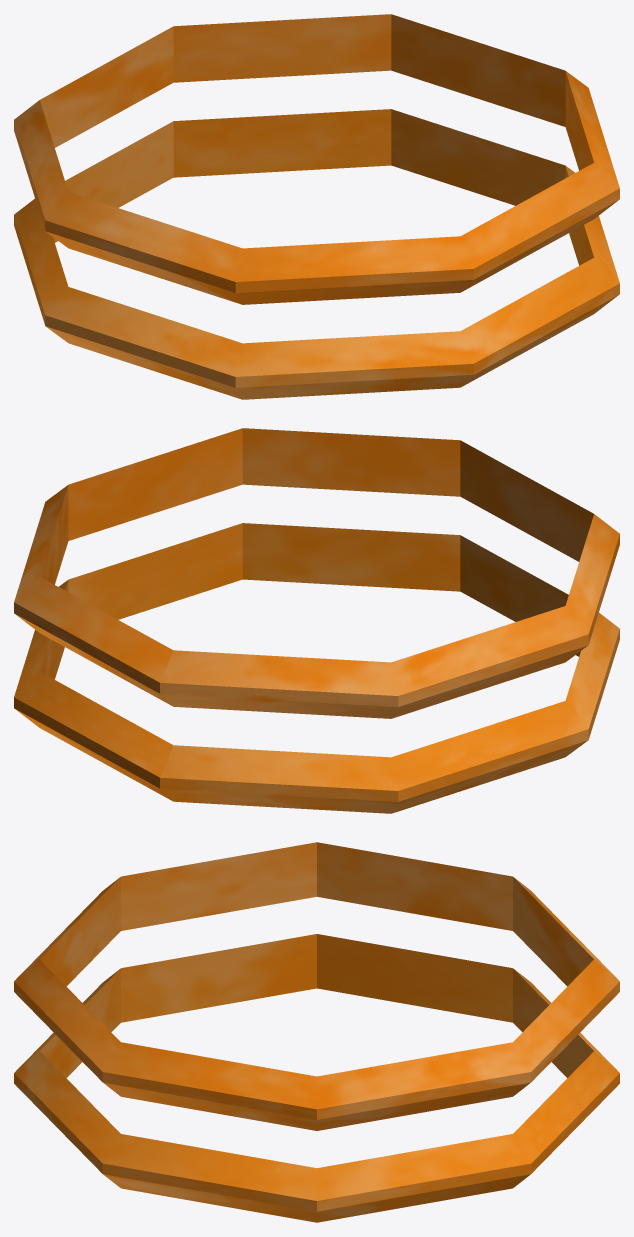
File: Hull_Armour_03.fbx
3 views of the same model, one above another, from view 1: azimuth 30°, elevation 25°; view 2: azimuth 150°, elevation 25°; view 3: azimuth 270°, elevation 25° (orthographic). The views are drawn at different scales.
Visible parts, largest first — view 1: Hull_Armour_03; view 2: Hull_Armour_03; view 3: Hull_Armour_03.
Boxes of the visible parts, left/top/right/bottom form: Hull_Armour_03: left=14, top=14, right=619, bottom=399; Hull_Armour_03: left=14, top=428, right=619, bottom=813; Hull_Armour_03: left=14, top=842, right=619, bottom=1222.
Size of the model in its own units: 17.1 by 4.55 by 17.1.
